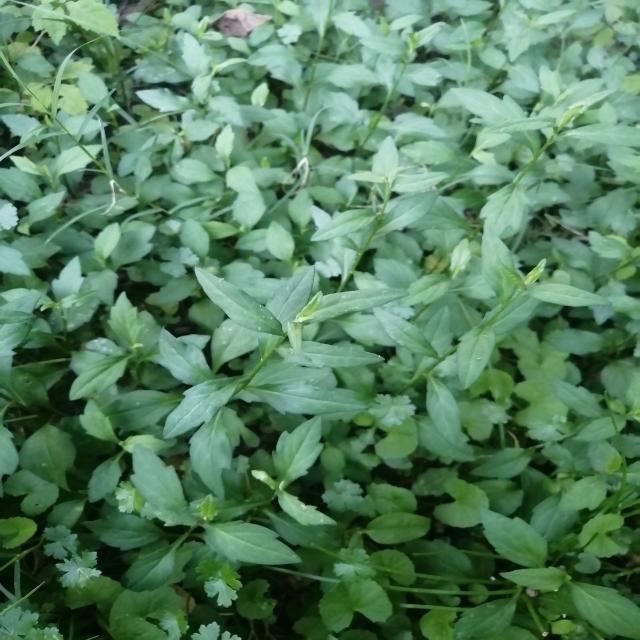Indian aster: (170, 260, 393, 456), (371, 233, 587, 426)
